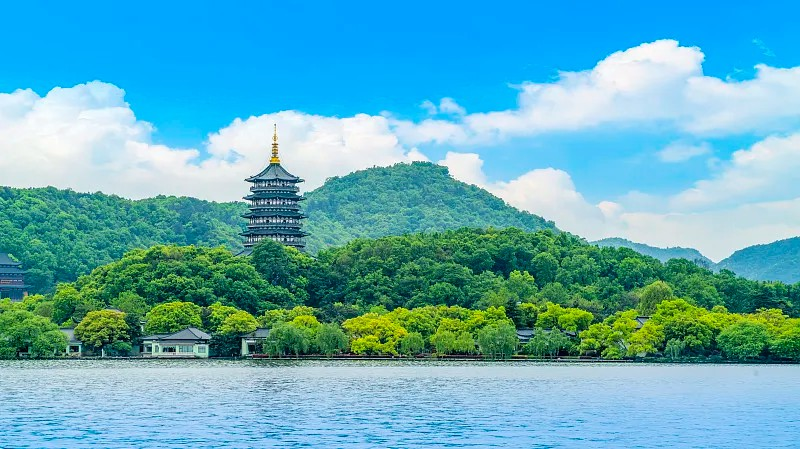Leifeng: (242, 121, 311, 257)
